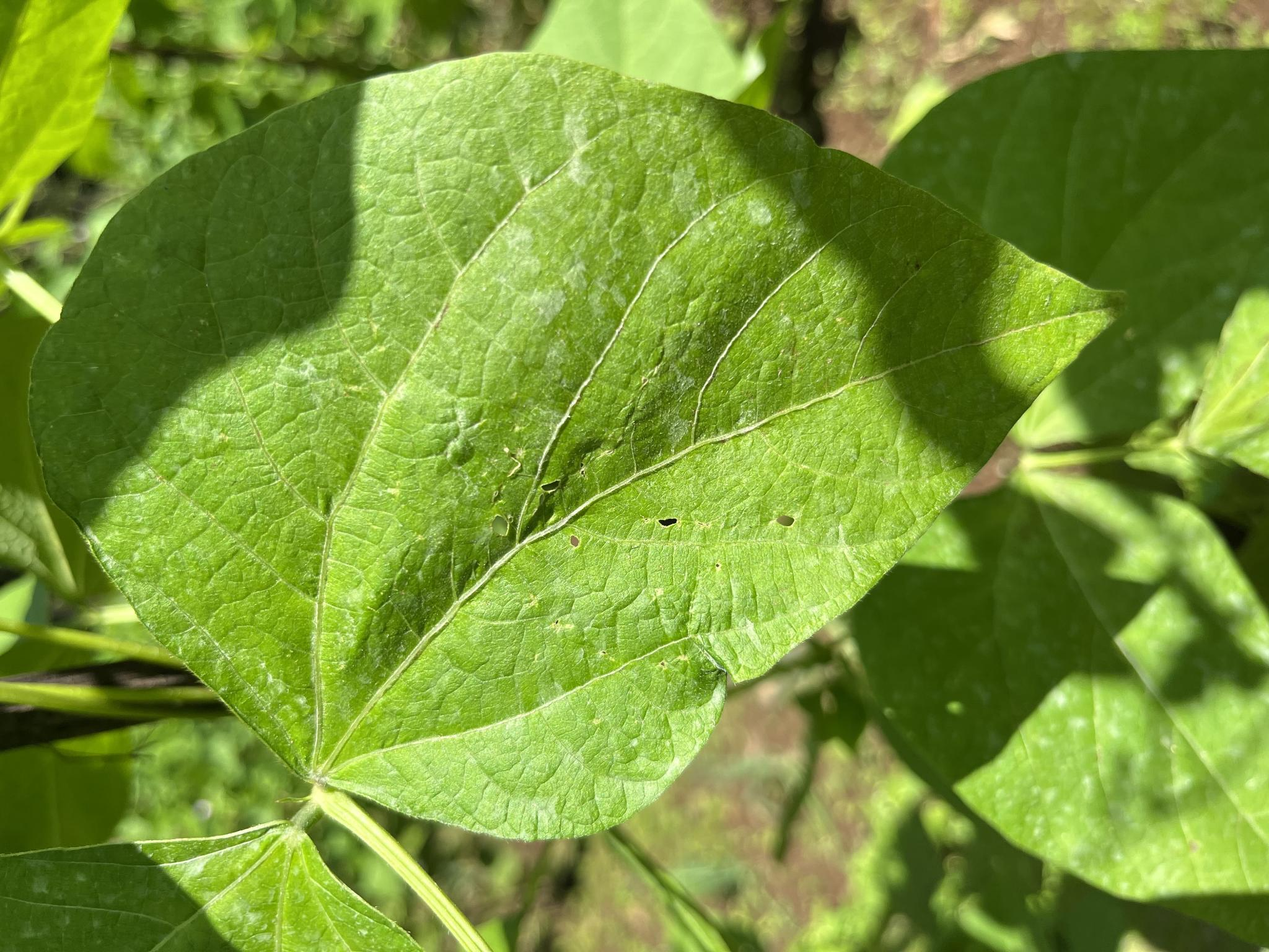mozaik: (636, 488, 699, 549)
